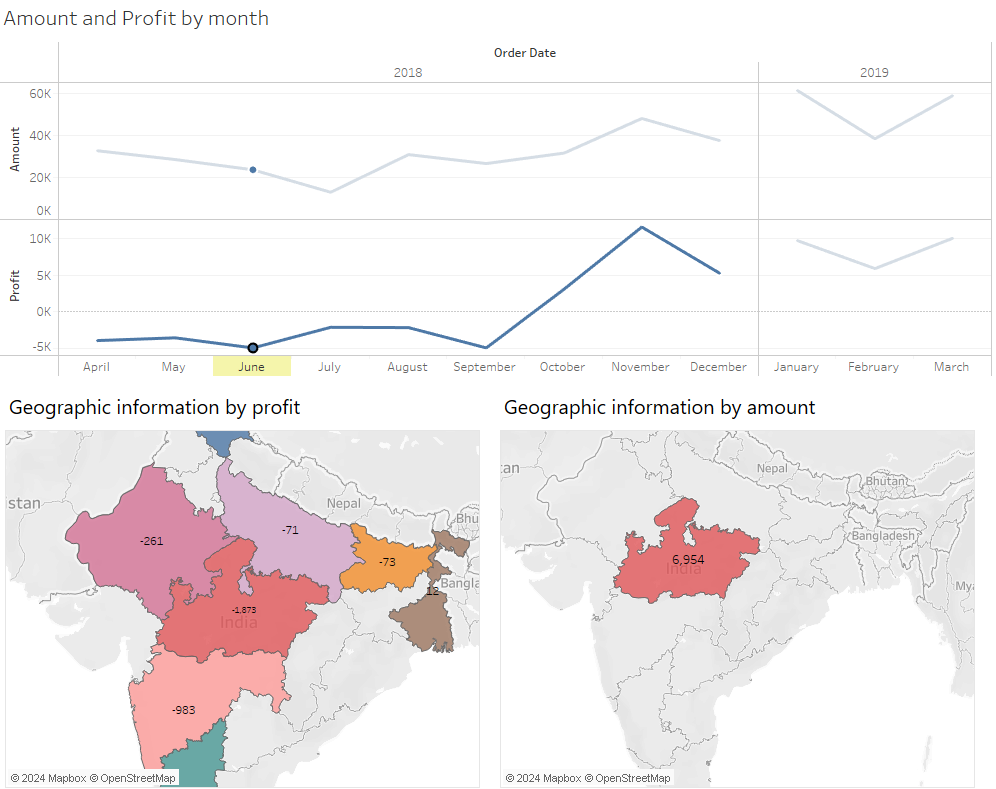

This screenshot's page, from the dashboard's own definition file:
{"tool":"tableau","page":{"name":"Dashboard 2","canvas":[1000,800],"ordinal":1},"visuals":[{"type":"worksheet","title":"Sheet 3","mark":"Automatic","rows":["Amount","Profit"],"cols":["Order Date","Order Date"],"box":[1,0,993,378]},{"type":"worksheet","title":"Sheet 5","mark":"Multipolygon","box":[7,389,475,400]},{"type":"worksheet","title":"Sheet 4","mark":"Multipolygon","box":[502,389,475,400]}]}

Visuals, with their boxes in screenshot pixels (x1, y1, x2, y2), scaled from the page's 1000x800 canvas onto the 996x789 screenshot:
"Sheet 3" worksheet: x1=1 y1=0 x2=990 y2=373
"Sheet 5" worksheet (Multipolygon marks): x1=7 y1=384 x2=480 y2=778
"Sheet 4" worksheet (Multipolygon marks): x1=500 y1=384 x2=973 y2=778
